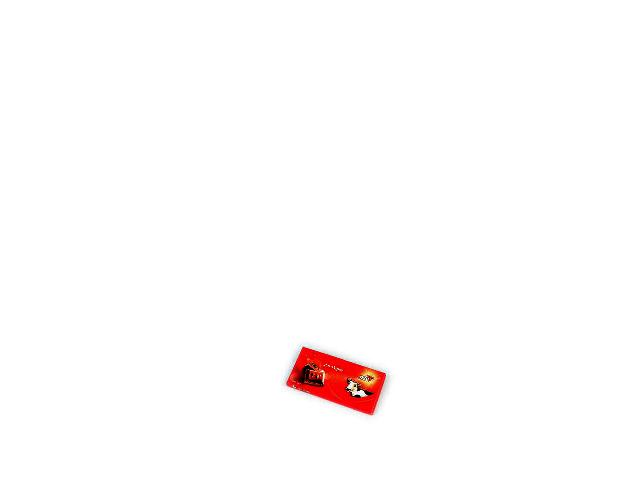chocolate: (285, 345, 383, 415)
